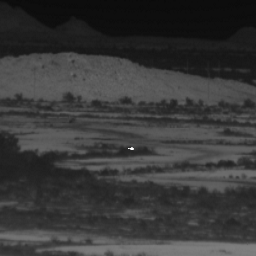Target: (126, 146, 134, 151)
